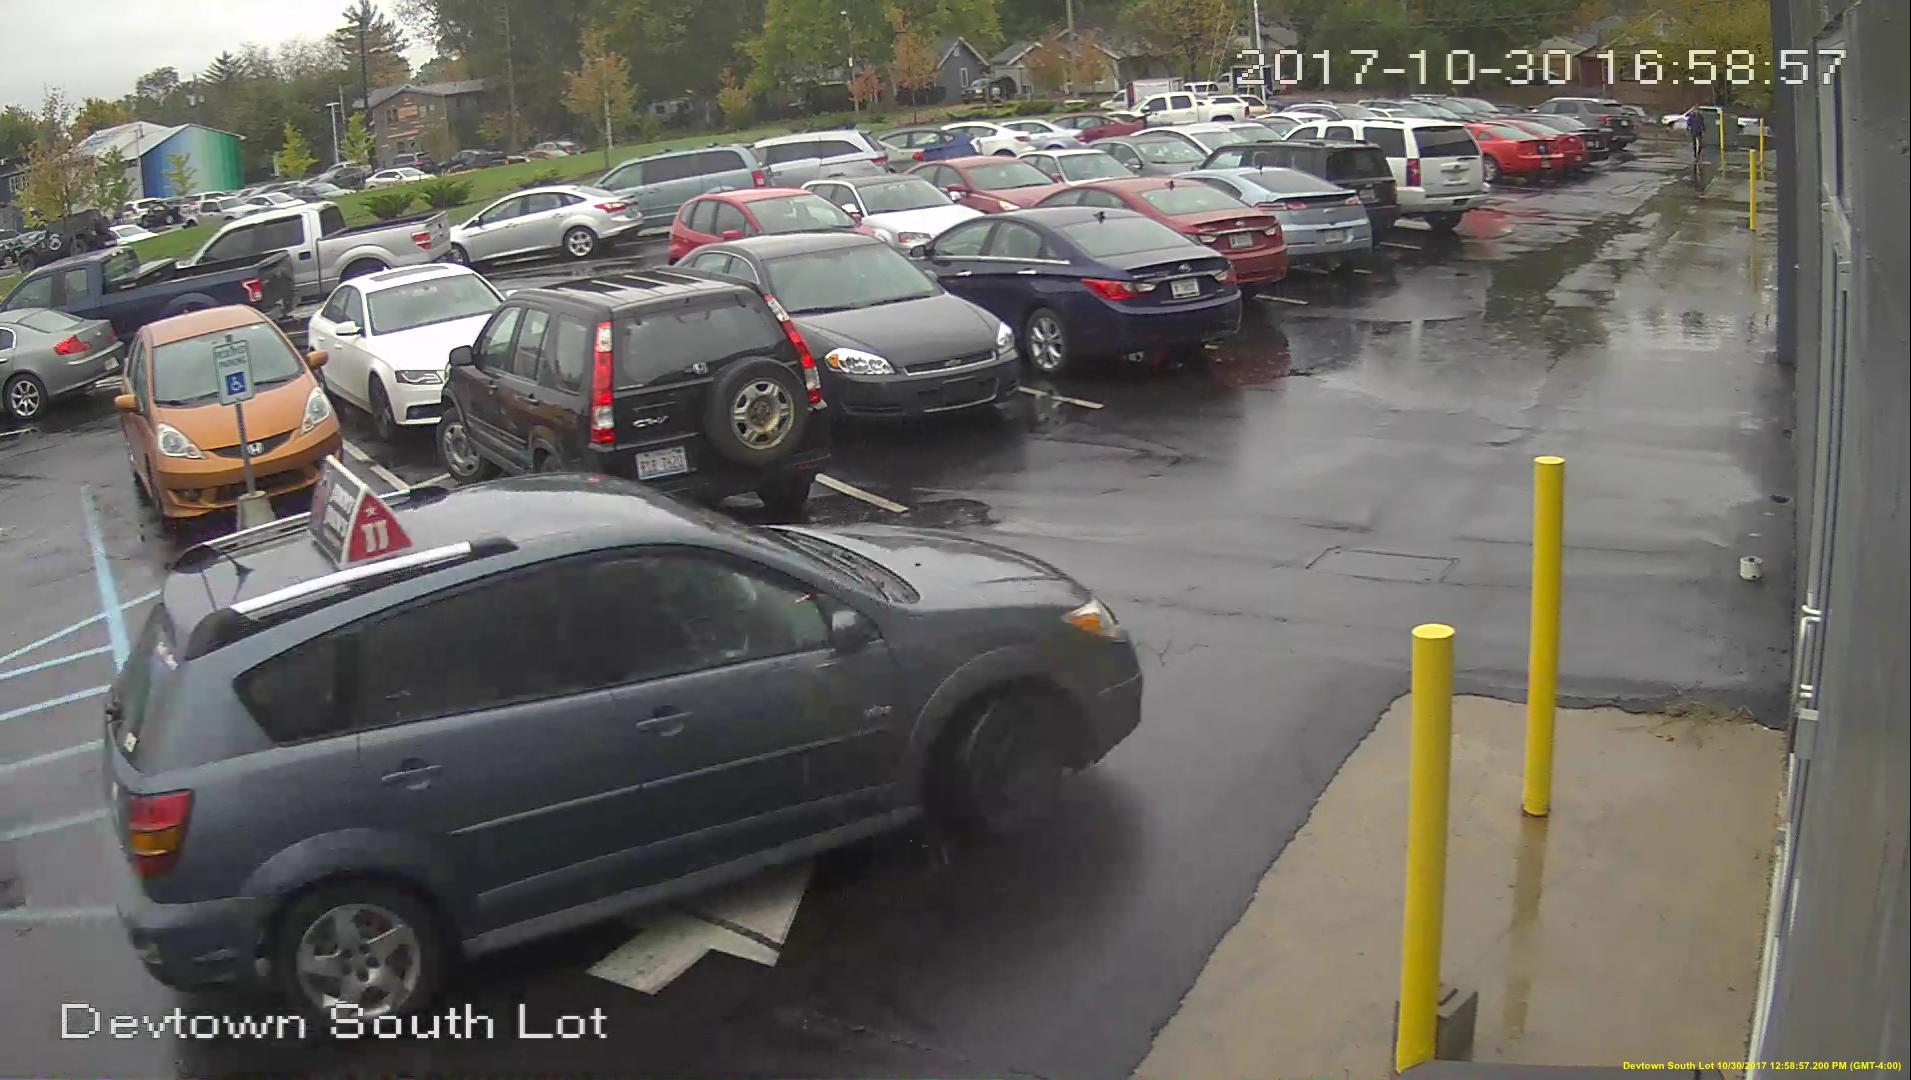jimmy_johns: (306, 453, 416, 572)
